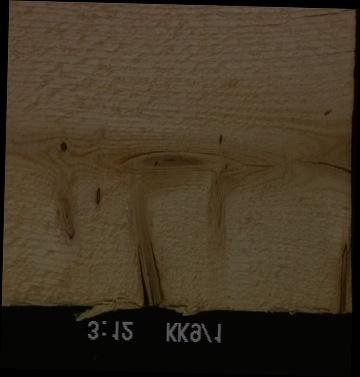dry_knot: (123, 184, 164, 307), (337, 243, 347, 313), (58, 139, 68, 153)
split: (296, 158, 350, 174), (237, 161, 276, 169)
